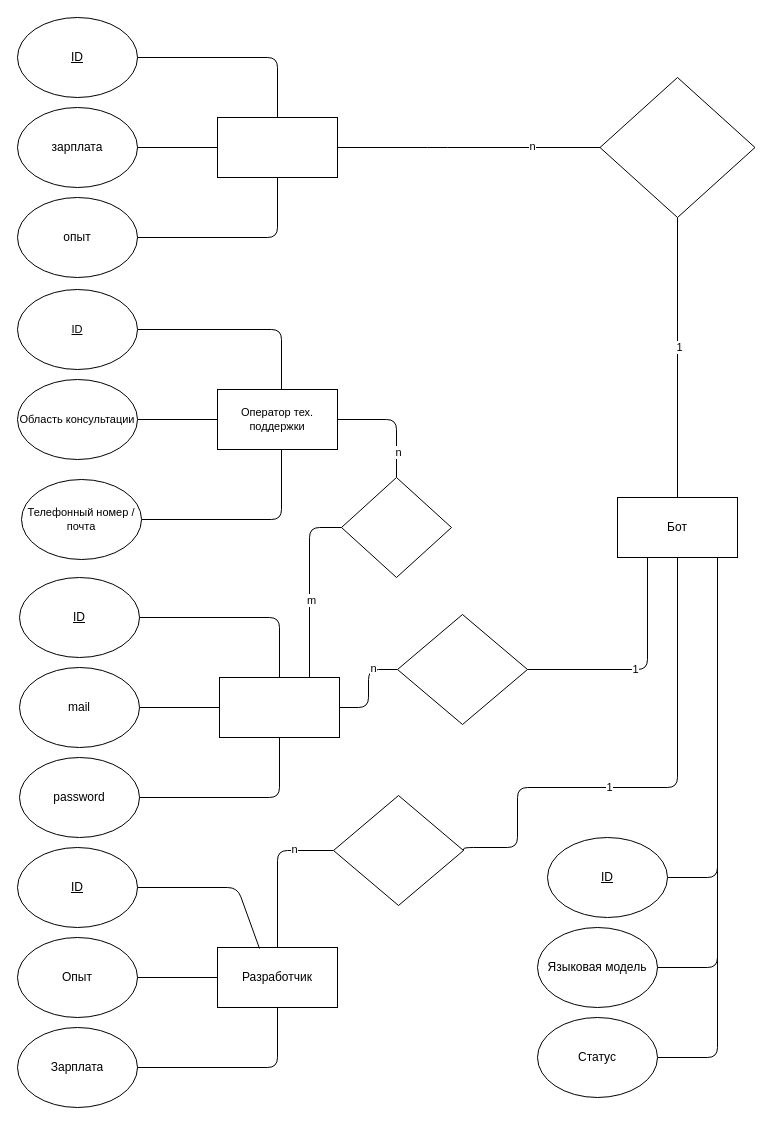
Image size: 773x1125. Some labels were removed from this diagram. Here are the shapes that lost their labels. From the top down, the centre of each, then its label:
At (277,147): "ML - разработчик".
At (677,147): "обучает используемые модели".
At (396,527): "Помогает с проблемами".
At (462,669): "Взаимодействует".
At (279,707): "Конечный пользователь".
At (398,850): "разрабатывает".
